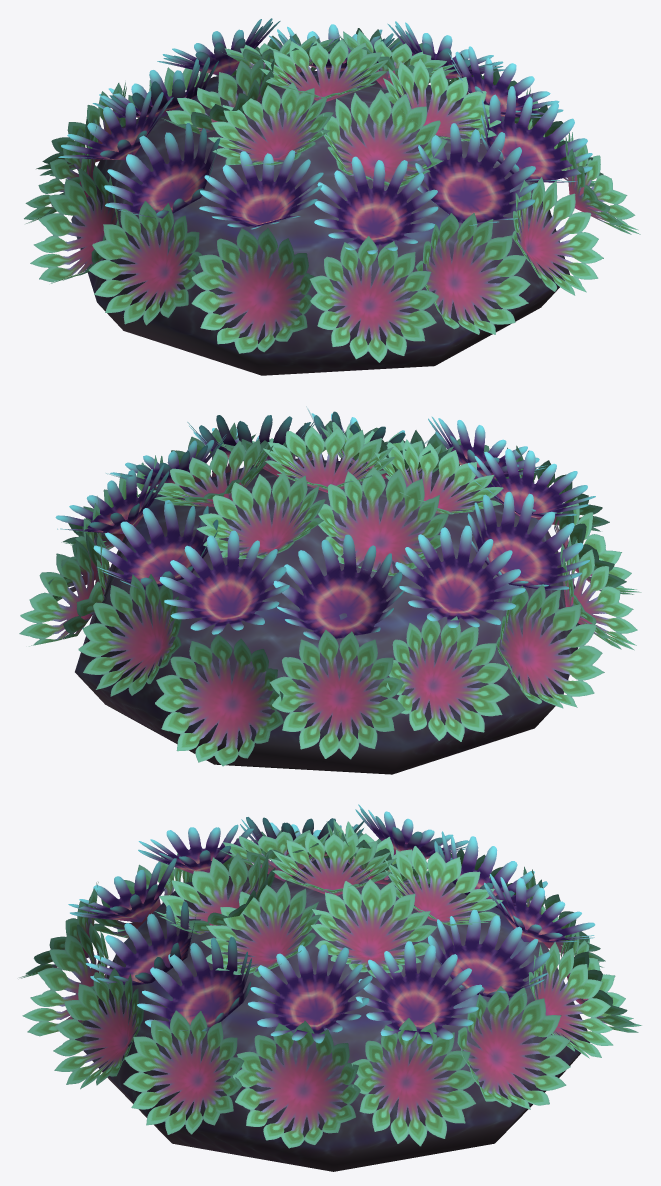
File: Coral_16c.FBX
3 views of the same model, one above another, from view 1: azimuth 30°, elevation 25°; view 2: azimuth 150°, elevation 25°; view 3: azimuth 270°, elevation 25° (orthographic). The views are drawn at different scales.
Visible parts, largest first — view 1: Coral_16c; view 2: Coral_16c; view 3: Coral_16c.
Boxes of the visible parts, x1,y1,x2,y2 form: Coral_16c: (24,18,640,375); Coral_16c: (19,406,641,774); Coral_16c: (19,804,641,1171).
Bounding box in the file's own units: 31.04 × 12.43 × 31.43.
